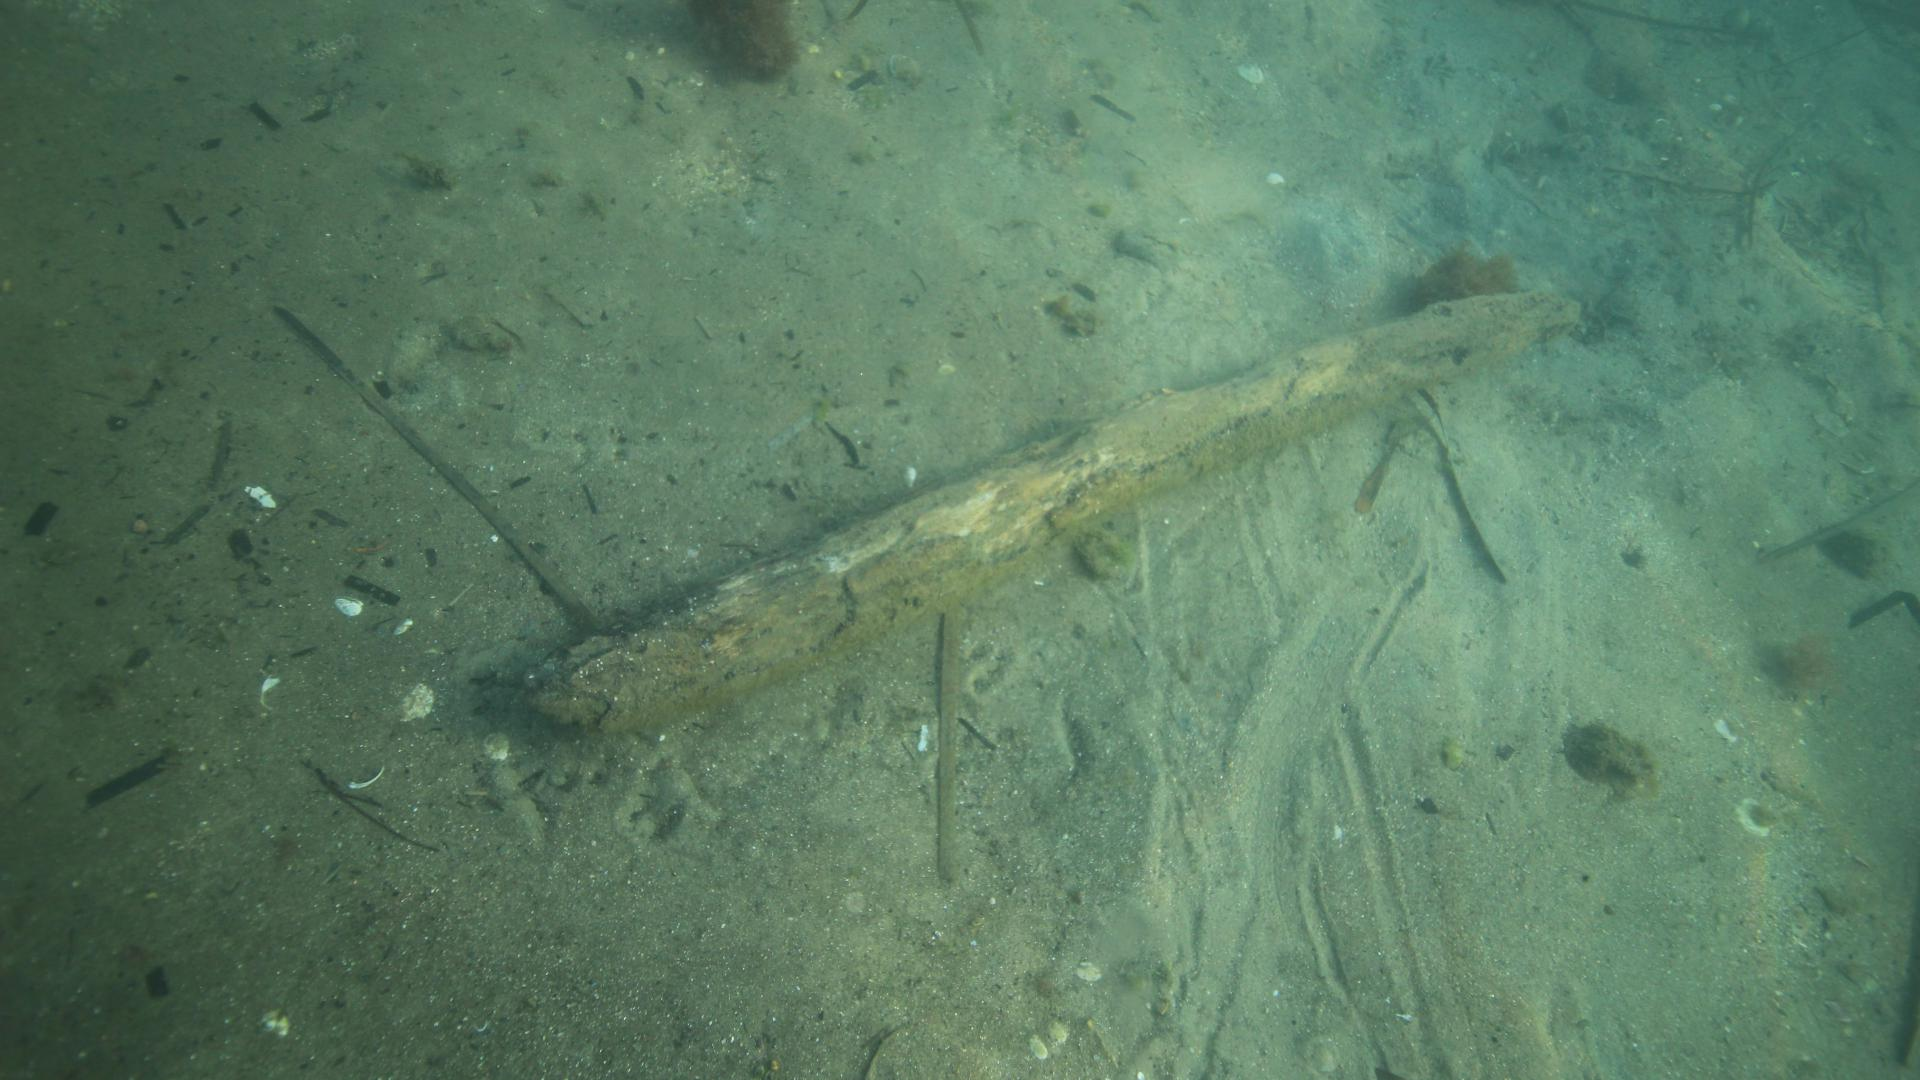wood: (506, 276, 1589, 753)
